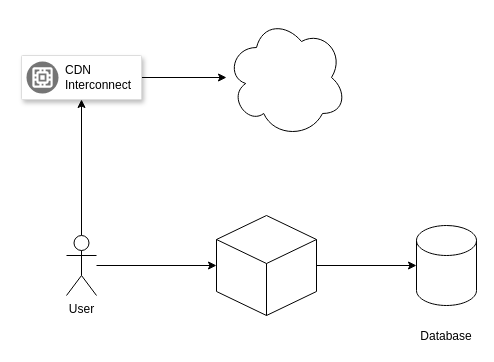
Some shapes in this 494 by 362 pixel diagram are drawn without their labels. The shapes that lost their labels are listed below. From the top down, each one's centre as x and y in pixels, then its label:
[286,77]: Resources & Static Content
[266,265]: Web Server
